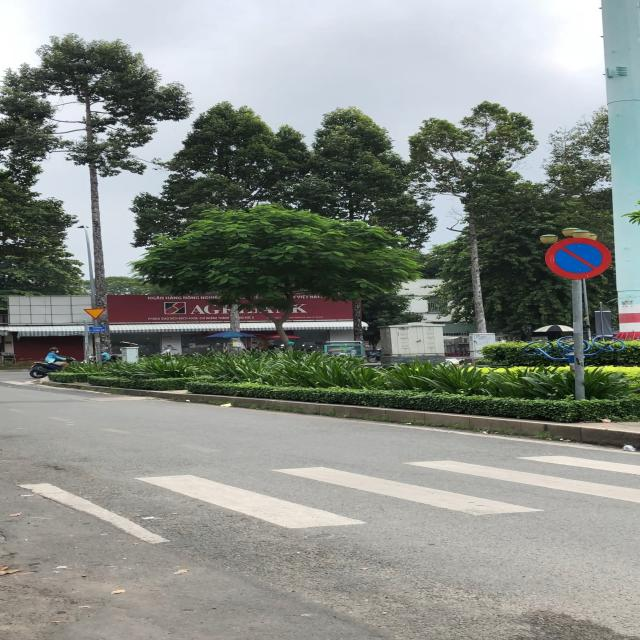Bien bao cam do xe: (542, 236, 615, 284)
Bien bao giao nhau voi duong uu tien: (82, 307, 108, 320)
